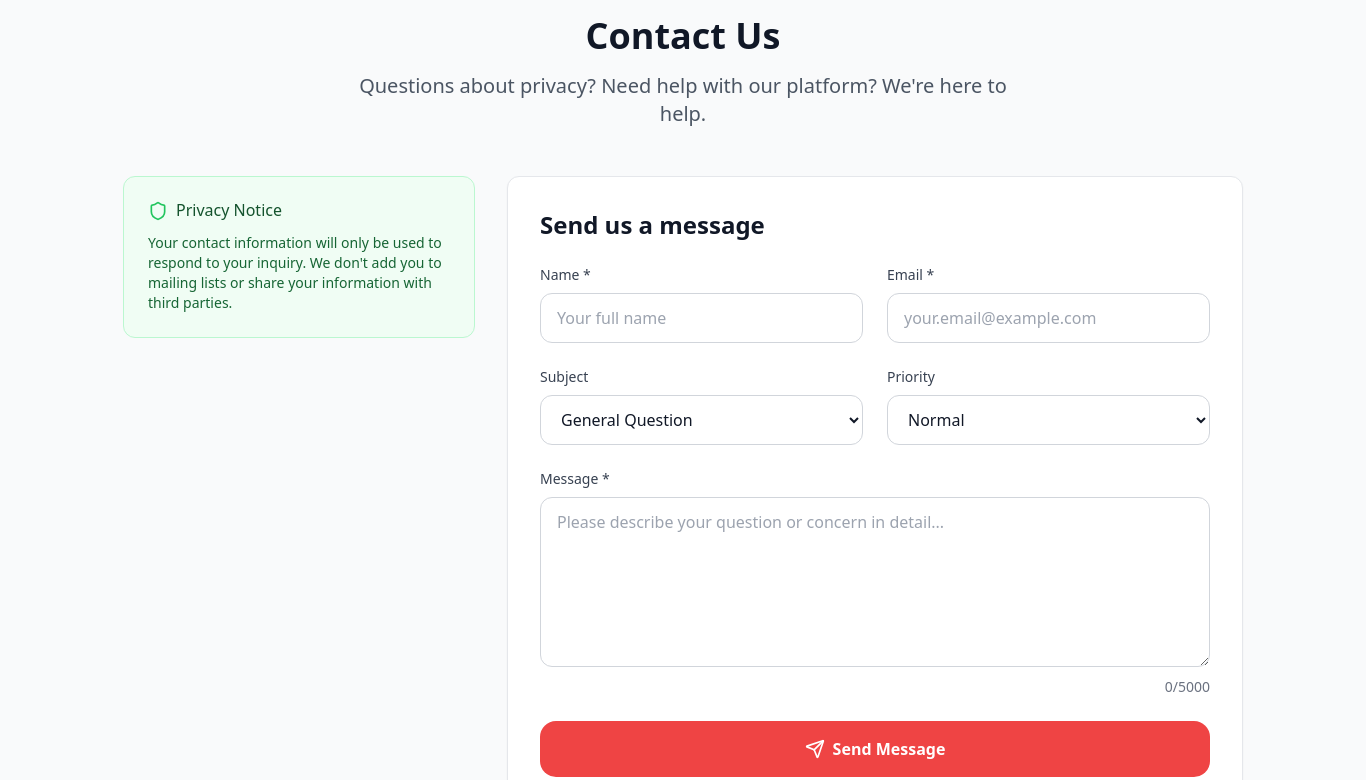
ContactUs › validates required fields
Click the button "Send Message".
click(875, 749)  # box [540,721,1210,777]
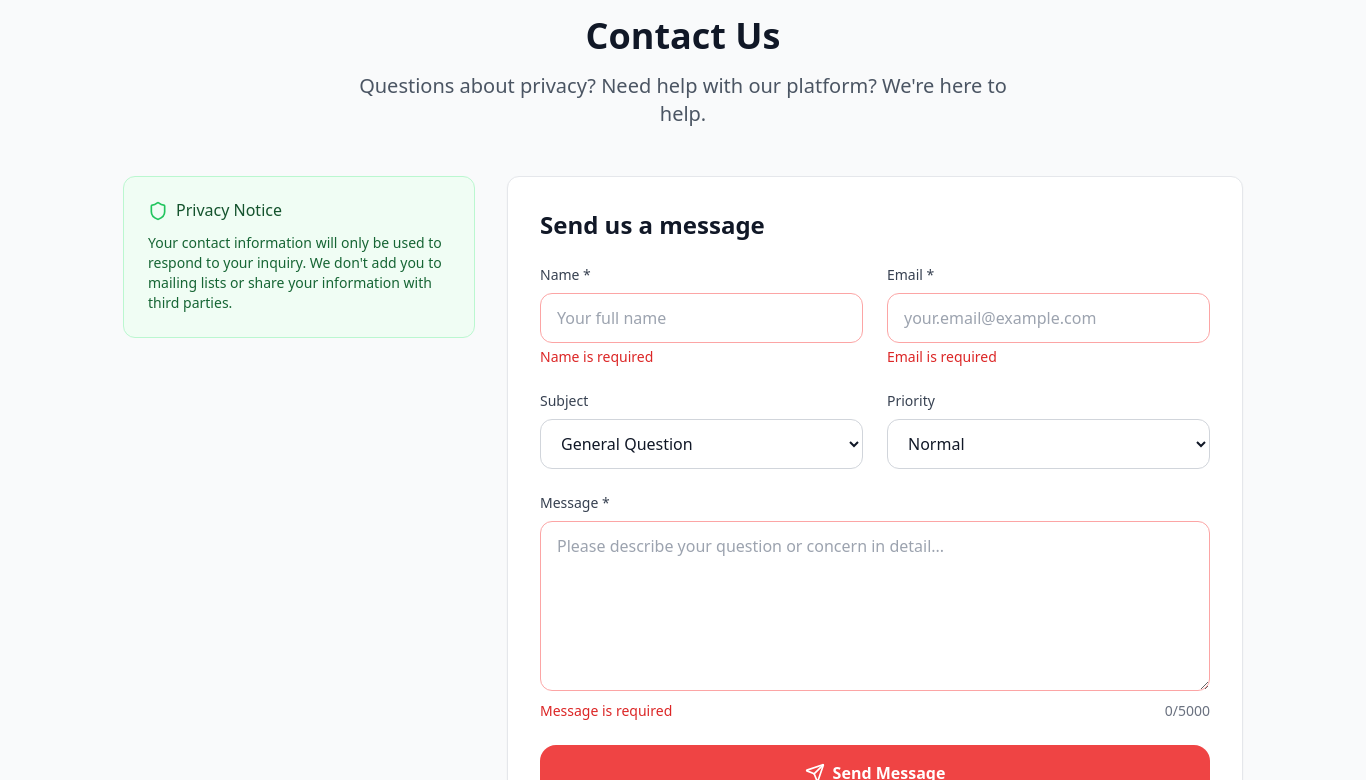
Expected: the text "Name is required" is shown, [540,347,653,366]
